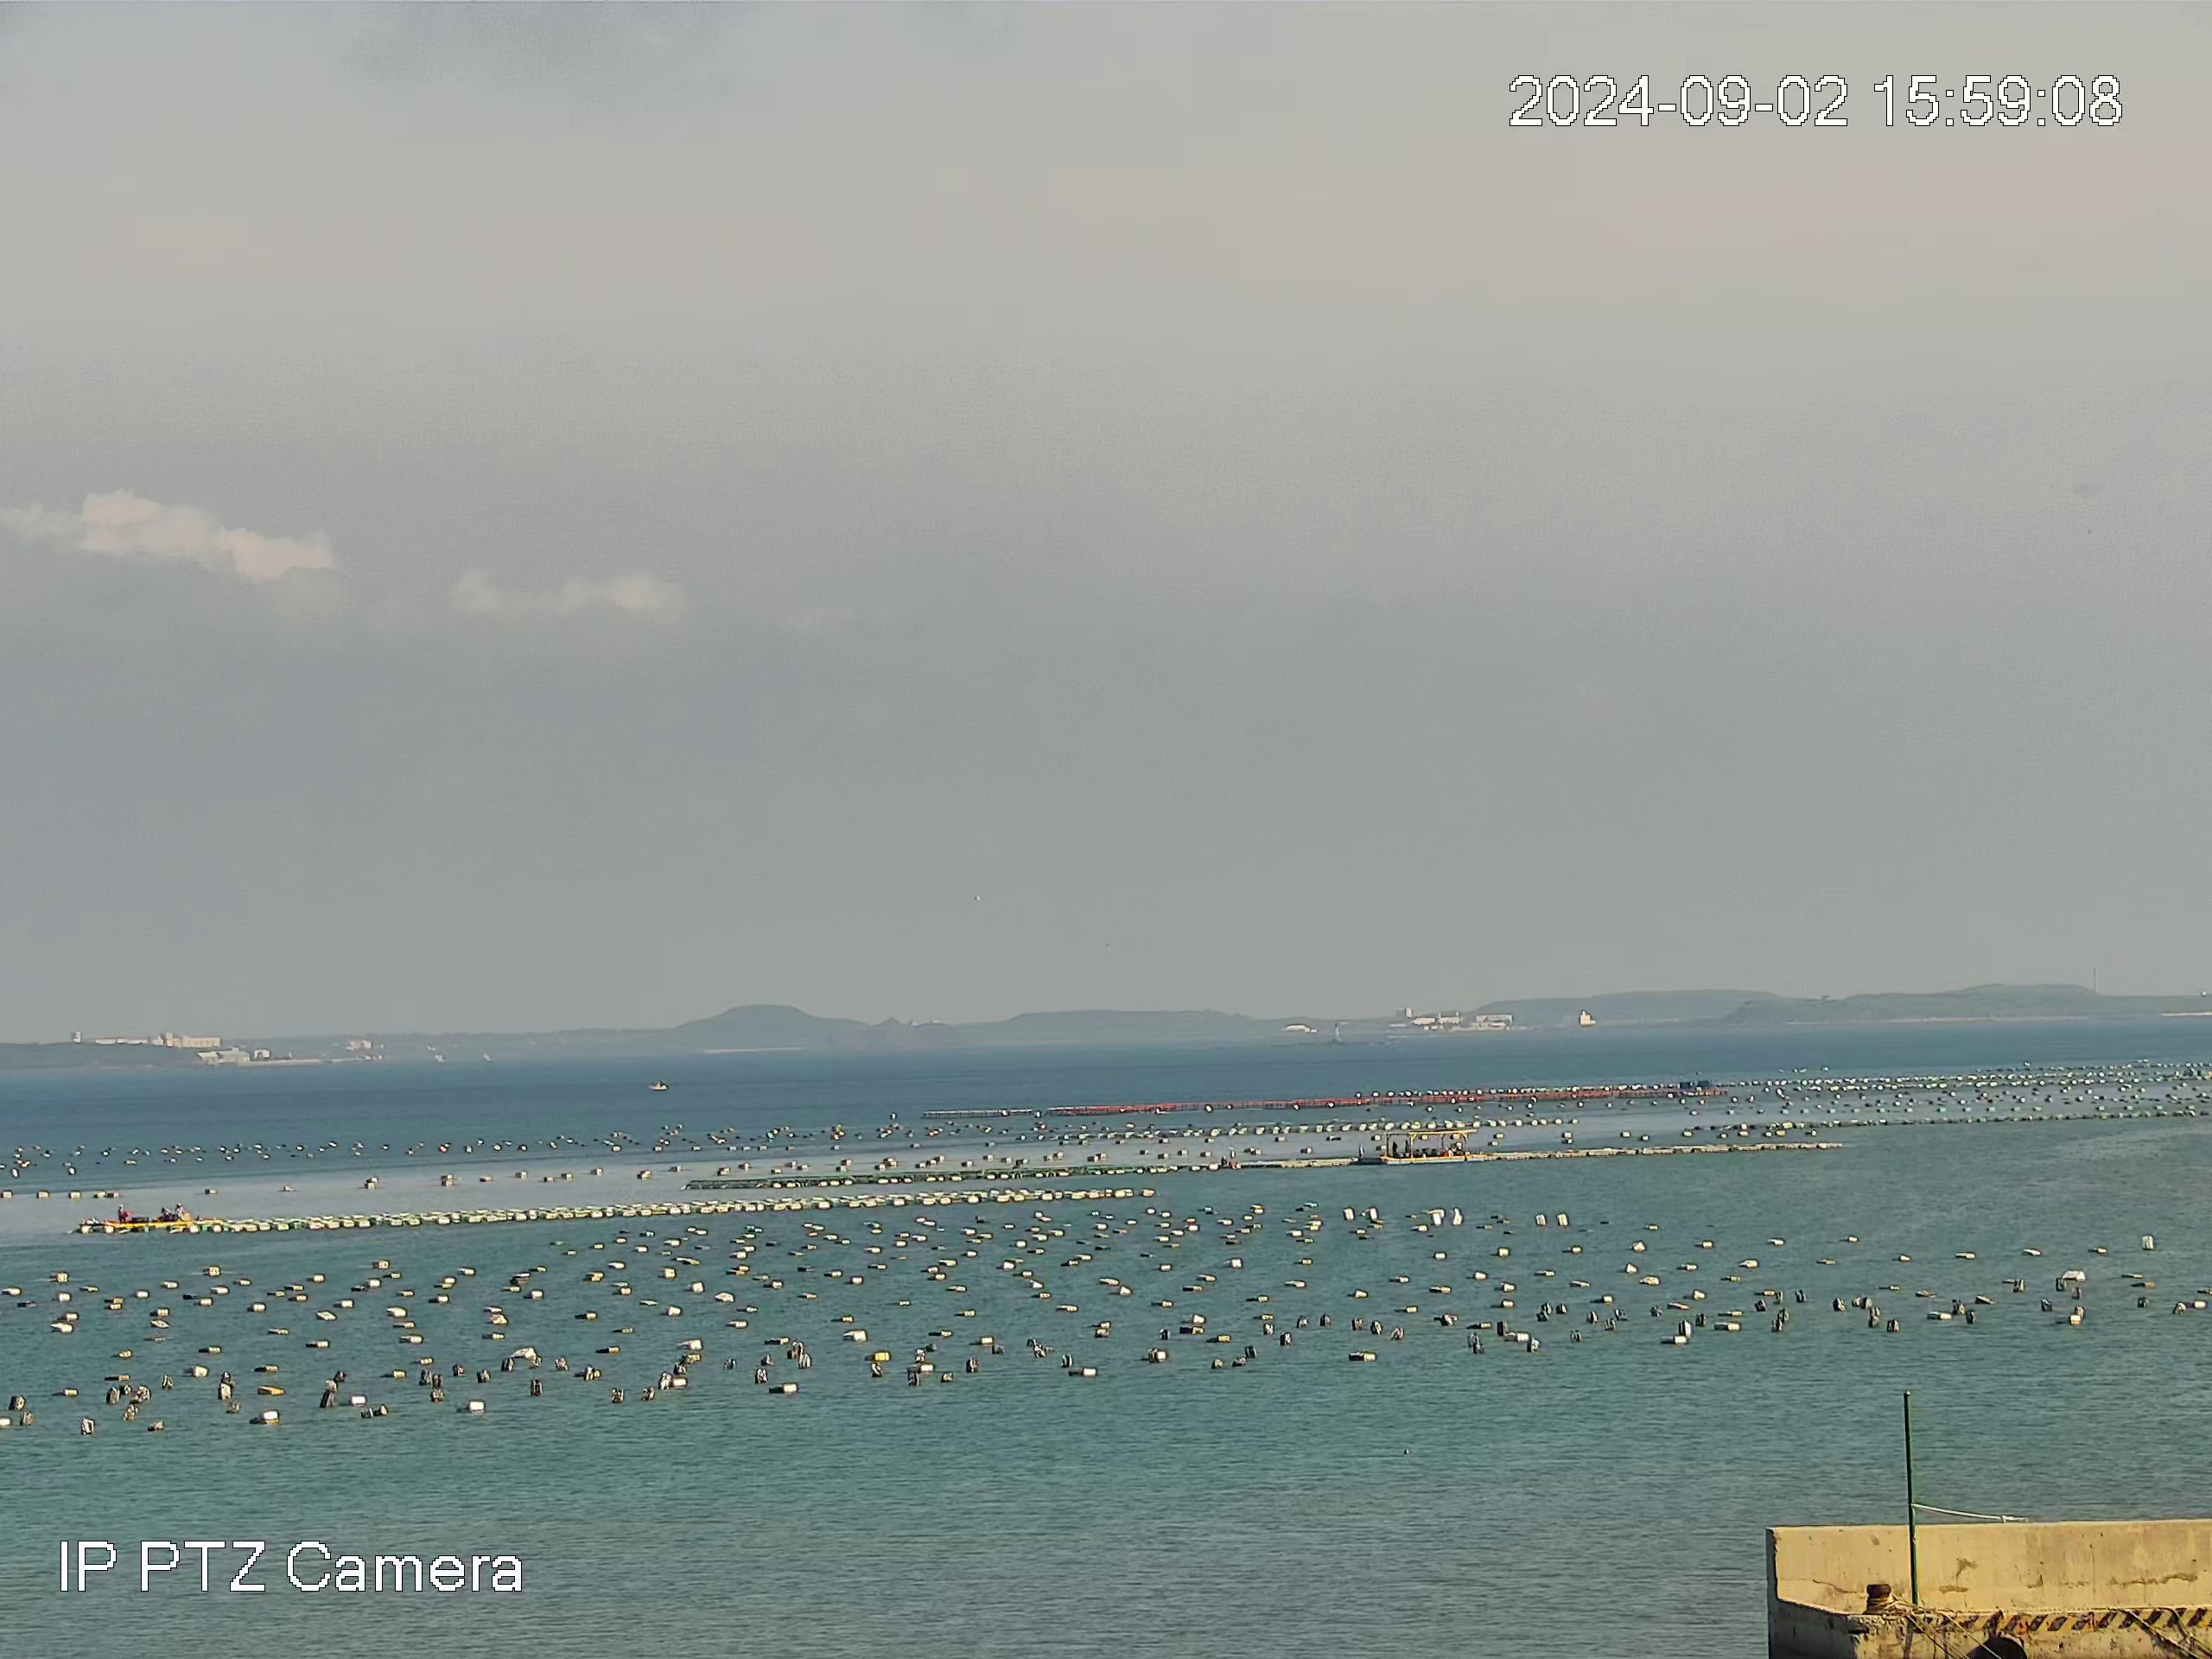boat: (1378, 1127, 1487, 1166), (103, 1202, 223, 1227), (646, 1080, 669, 1093)
